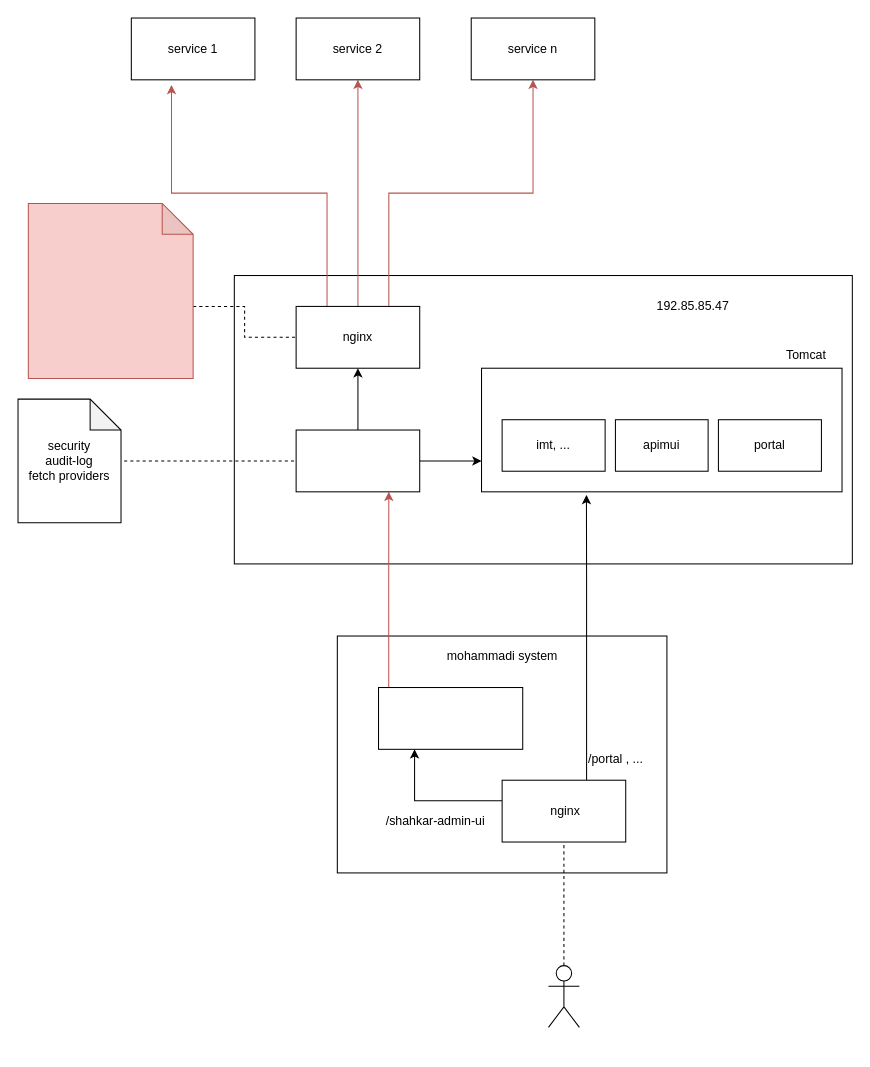
Some shapes in this 870 by 1067 pixel diagram are drawn without their labels. Here are the shapes that lost their labels. From the top down, the centre of each, then its label:
At pixel 110 290: "/path1{ proxy_pass service1; } /path2 { proxy_pass service 2; }".
At pixel 357 460: "admin-ui-proxy".
At pixel 450 717: "front app ( nodejs )".
At pixel 563 996: "Client".
